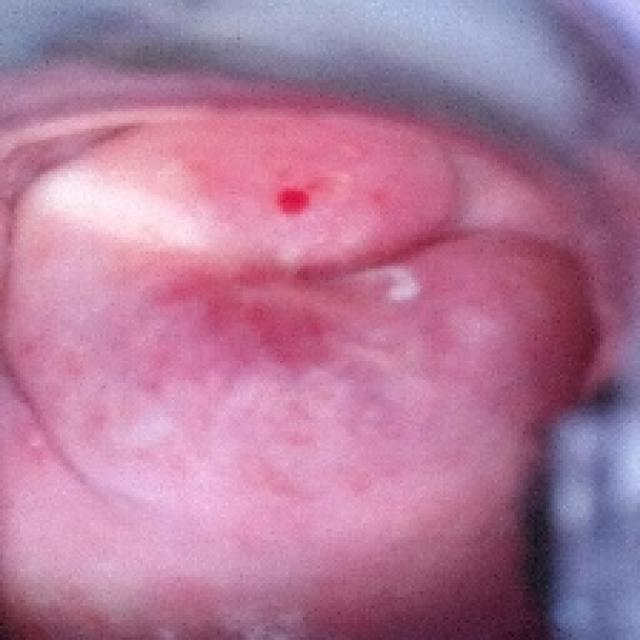type-3: (7, 64, 630, 640)
